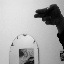h: (32, 3, 58, 26)
